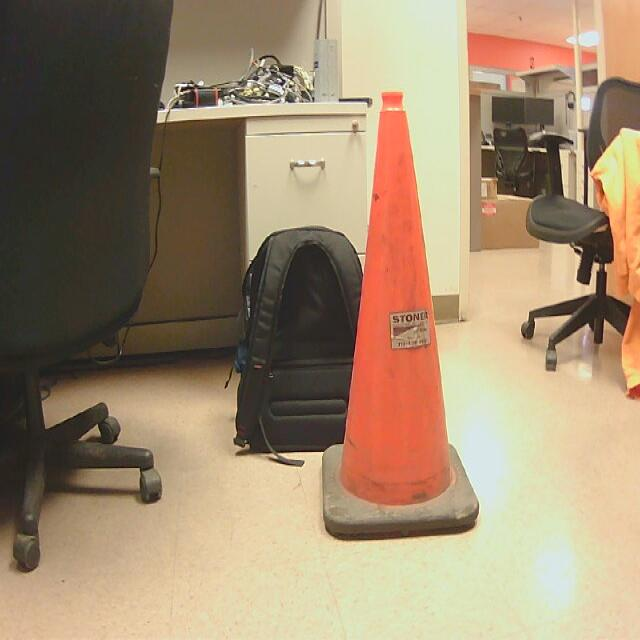traffic cone: (322, 92, 481, 545)
